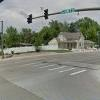Traffic light: (20, 7, 56, 28)
